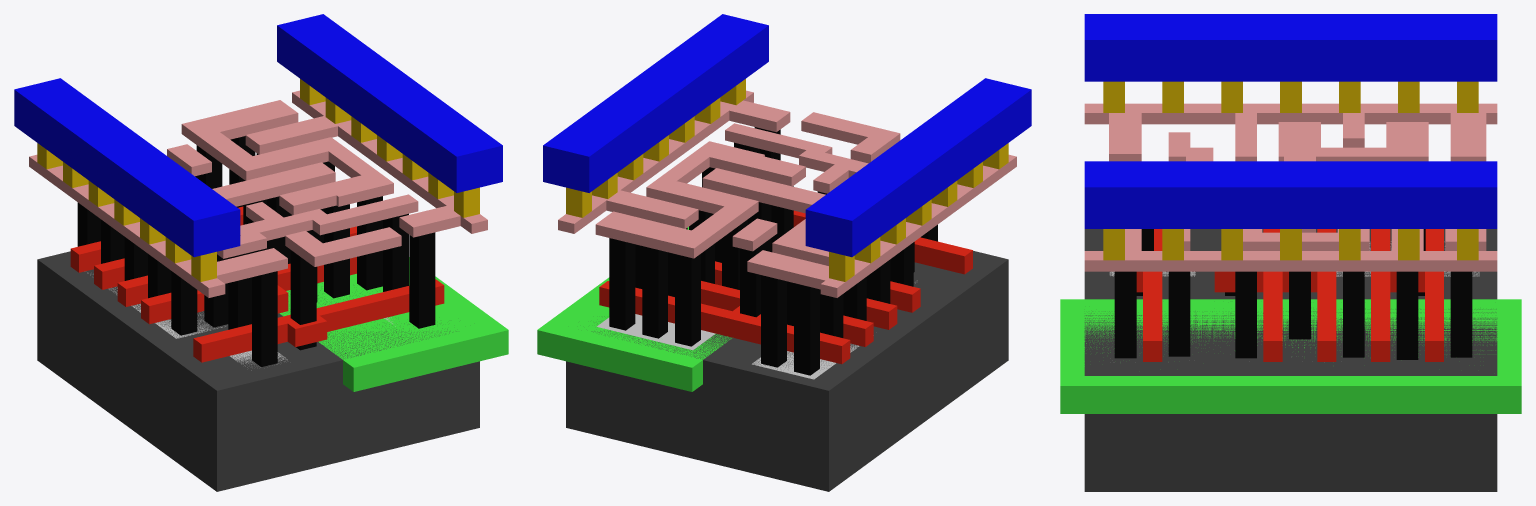
The model's file is sky130_fd_sc_hd__lpflow_isobufsrc_2.obj.
3 views of the same model, side by side, from view 1: azimuth 30°, elevation 25°; view 2: azimuth 150°, elevation 25°; view 3: azimuth 270°, elevation 25° (orthographic). The views are drawn at different scales.
Visible parts, largest first — view 1: subs, metal1, li, licon, nwell, poly, mcon, diff; view 2: subs, metal1, li, licon, nwell, poly, mcon, tap, diff; view 3: metal1, subs, nwell, li, licon, poly, mcon.
Boxes of the visible parts, <box> form: subs: <box>37,251,479,491</box>; metal1: <box>14,14,502,257</box>; li: <box>29,90,487,297</box>; licon: <box>77,136,435,366</box>; nwell: <box>279,257,508,391</box>; poly: <box>70,206,444,362</box>; mcon: <box>37,79,479,281</box>; diff: <box>87,272,287,370</box>; subs: <box>566,250,1008,491</box>; metal1: <box>543,14,1031,257</box>; li: <box>558,90,1016,297</box>; licon: <box>609,127,937,375</box>; nwell: <box>537,227,731,391</box>; poly: <box>599,210,972,364</box>; mcon: <box>566,79,1008,281</box>; tap: <box>596,314,715,350</box>; diff: <box>752,280,917,379</box>; metal1: <box>1084,14,1497,228</box>; subs: <box>1084,229,1497,491</box>; nwell: <box>1060,299,1521,413</box>; li: <box>1084,103,1497,271</box>; licon: <box>1114,229,1472,359</box>; poly: <box>1136,229,1443,361</box>; mcon: <box>1103,81,1478,260</box>.
Bounding box in the file's own units: 3.2 × 2.74 × 3.6.
